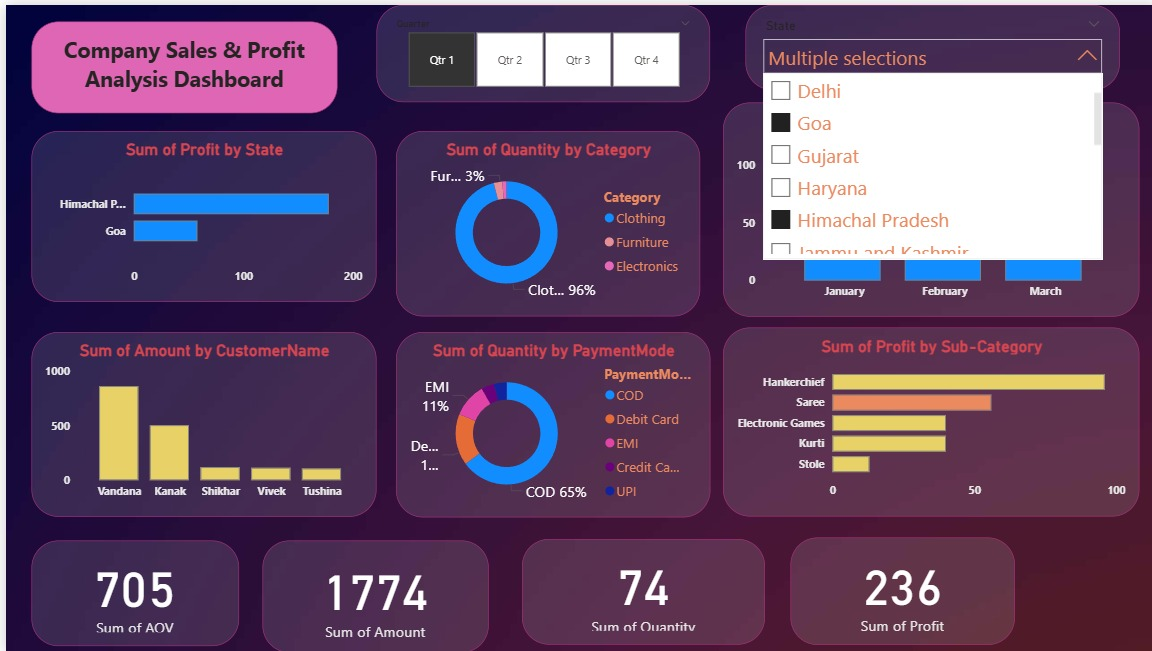

The dashboard page shown, as its layout file describes it:
{"tool":"powerbi","page":{"name":"Page 1","canvas":[1280,720],"ordinal":0},"visuals":[{"type":"textbox","box":[28.3,20.8,340.2,86.9],"z":1},{"type":"columnChart","title":" Profit by Month","fields":{"Y":["Sum(Details.Profit)"],"Category":["Orders.Order Date.Variation.Date Hierarchy.Month"]},"box":[797.5,107.7,463,238.1],"z":2},{"type":"barChart","fields":{"Category":["Details.Sub-Category"],"Y":["Sum(Details.Profit)"]},"box":[797.5,359.1,463,209.8],"z":3},{"type":"donutChart","fields":{"Category":["Details.Category"],"Y":["Sum(Details.Quantity)"]},"box":[432.8,139.8,338.3,206],"z":4},{"type":"donutChart","fields":{"Y":["Sum(Details.Quantity)"],"Category":["Details.PaymentMode"]},"box":[432.8,362.8,349.6,206],"z":5},{"type":"card","fields":{"Values":["Sum(Details.Amount)"]},"box":[285.4,595.3,251.3,124.7],"z":6},{"type":"card","fields":{"Values":["Sum(Details.Quantity)"]},"box":[572.6,593.4,270.2,117.2],"z":7},{"type":"card","fields":{"Values":["Sum(Details.Profit)"]},"box":[871.2,591.5,249.5,119.1],"z":8},{"type":"card","fields":{"Values":["Sum(Details.AOV)"]},"box":[28.3,595.3,230.6,117.2],"z":9},{"type":"barChart","fields":{"Y":["Sum(Details.Profit)"],"Category":["Orders.State"]},"box":[28.3,139.8,383.6,190.9],"z":10},{"type":"columnChart","fields":{"Category":["Orders.CustomerName"],"Y":["Sum(Details.Amount)"]},"box":[5.7,362.8,406.3,206],"z":11},{"type":"slicer","fields":{"Values":["Orders.Order Date.Variation.Date Hierarchy.Quarter"]},"box":[412,0,370.4,107.7],"z":12},{"type":"slicer","fields":{"Values":["Orders.State"]},"box":[822.1,0,415.8,94.5],"z":13}]}

Visuals, with their boxes in screenshot pixels (x1, y1, x2, y2), scaled from the page's 1280x720 canvas onto the 1152x651 screenshot:
textbox: 25,19,332,97
" Profit by Month" columnChart: 718,97,1134,313
barChart - Details.Sub-Category x Sum(Details.Profit): 718,325,1134,514
donutChart - Details.Category x Sum(Details.Quantity): 390,126,694,313
donutChart - Sum(Details.Quantity) x Details.PaymentMode: 390,328,704,514
card - Sum(Details.Amount): 257,538,483,650
card - Sum(Details.Quantity): 515,537,759,643
card - Sum(Details.Profit): 784,535,1009,643
card - Sum(Details.AOV): 25,538,233,644
barChart - Sum(Details.Profit) x Orders.State: 25,126,371,299
columnChart - Orders.CustomerName x Sum(Details.Amount): 5,328,371,514
slicer - Orders.Order Date.Variation.Date Hierarchy.Quarter: 371,0,704,97
slicer - Orders.State: 740,0,1114,85
